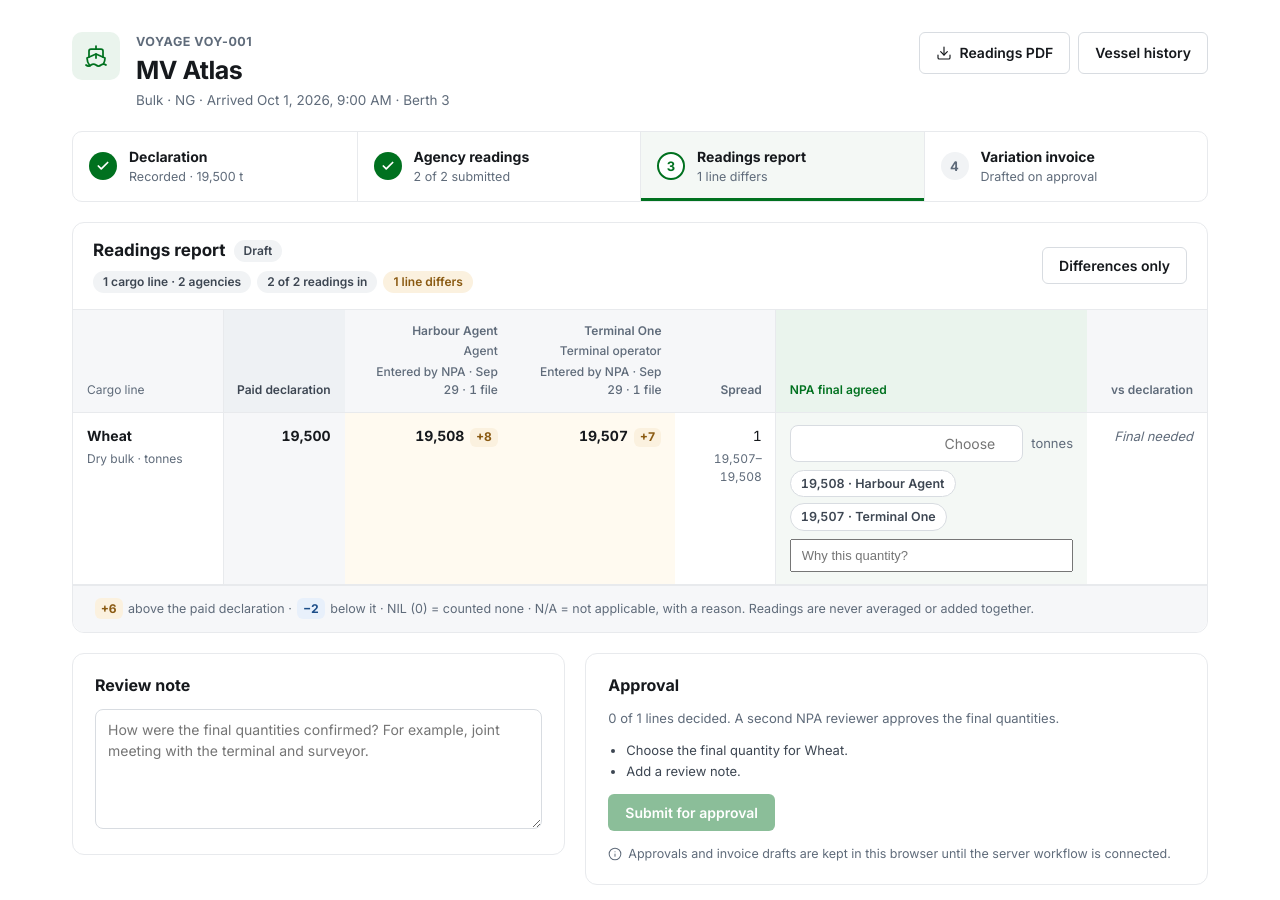
Test: voyage readings report › flags a quantity below the declaration for overpayment review
The width and height of the screenshot is (1280, 900).
Type "19490" into the number field named "NPA final quantity · Wheat" at (907, 444), box x1=790 y1=425 x2=1023 y2=462
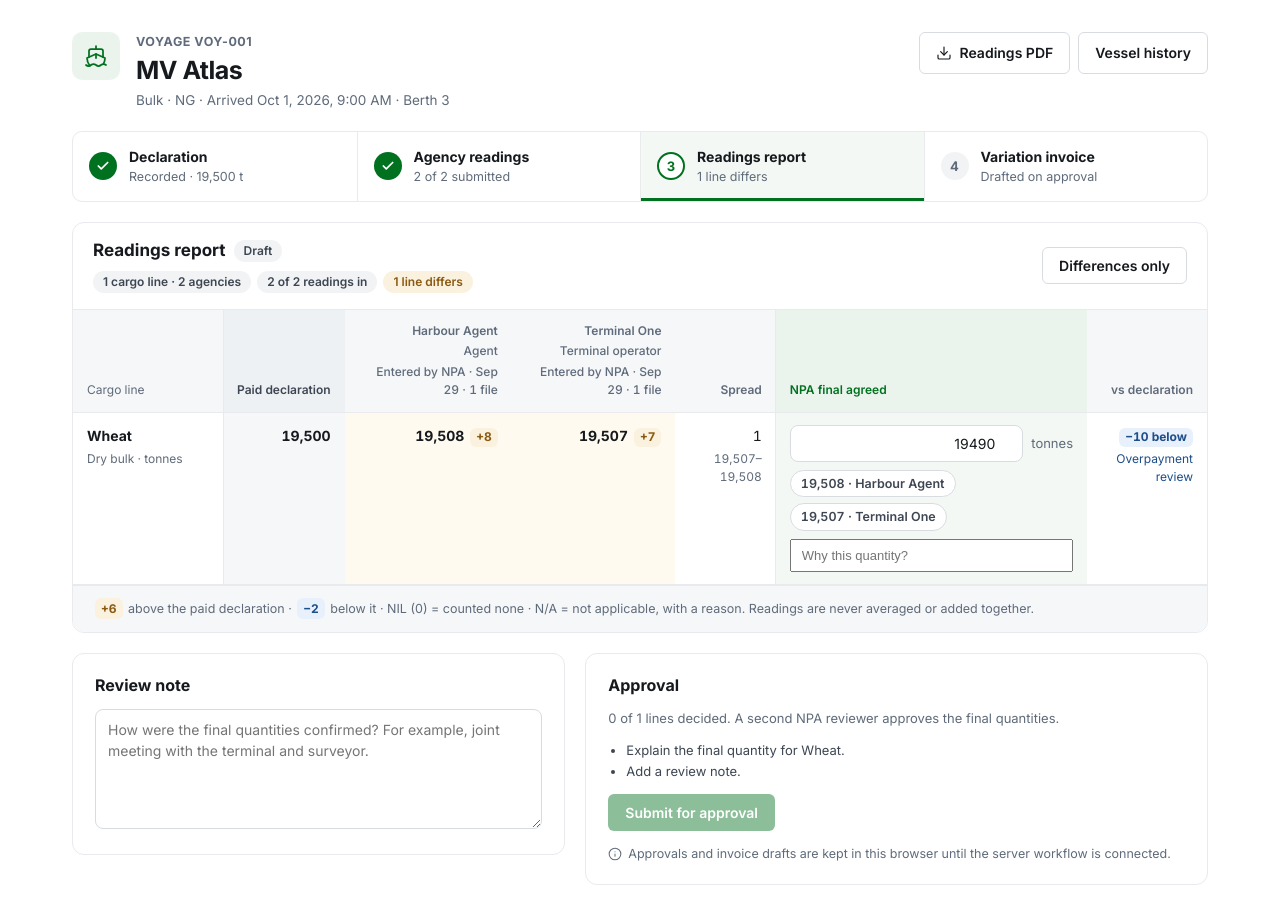
Result: the text "−10 below" is shown at x1=1119 y1=428 x2=1193 y2=447
Result: the text "Overpayment review" is shown at x1=1116 y1=451 x2=1193 y2=484
